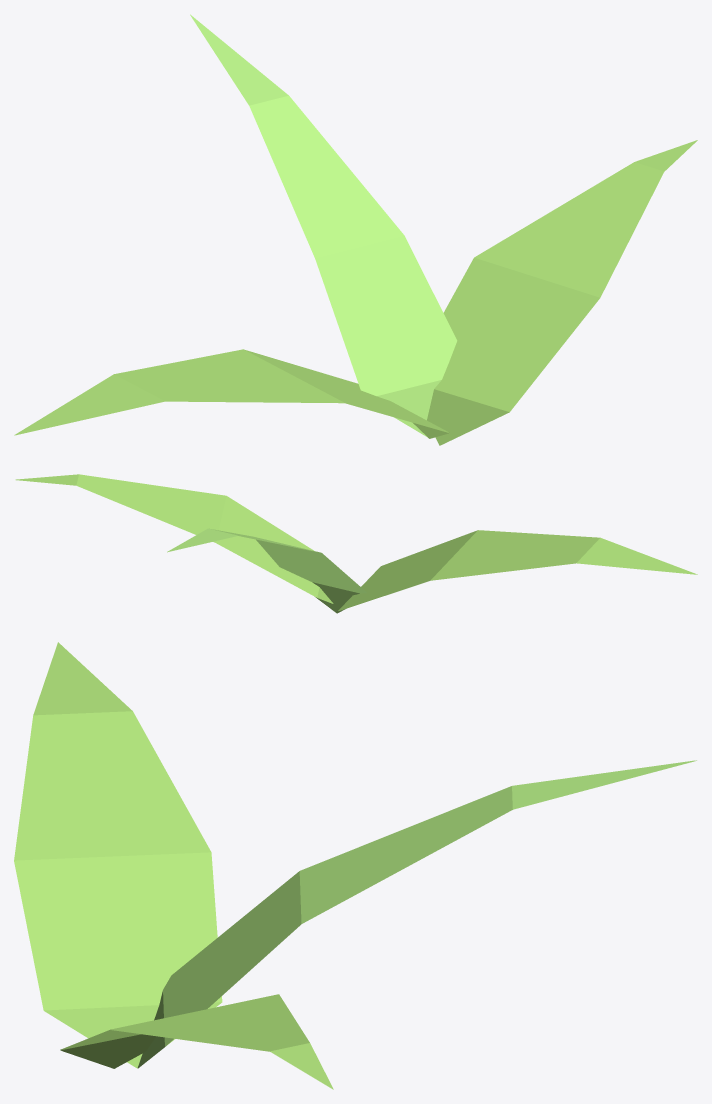
Rendered from Plant_a_TwoS_05.fbx.
3 views of the same model, one above another, from view 1: azimuth 30°, elevation 25°; view 2: azimuth 150°, elevation 25°; view 3: azimuth 270°, elevation 25° (orthographic). The views are drawn at different scales.
Visible parts, largest first — view 1: Plant_a_TwoS_05; view 2: Plant_a_TwoS_05; view 3: Plant_a_TwoS_05.
Boxes of the visible parts, <box> form: Plant_a_TwoS_05: <box>14,14,697,445</box>; Plant_a_TwoS_05: <box>15,474,697,613</box>; Plant_a_TwoS_05: <box>14,642,696,1089</box>.
Bounding box in the file's own units: 2 × 0.6112 × 1.24.
